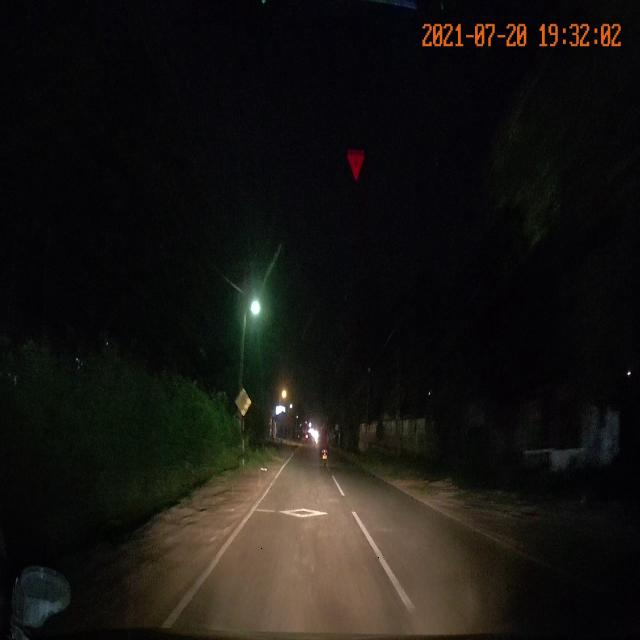diamond: (216, 500, 382, 560)
